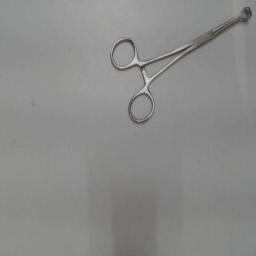Babcock Tissue Forceps: (108, 4, 254, 126)
